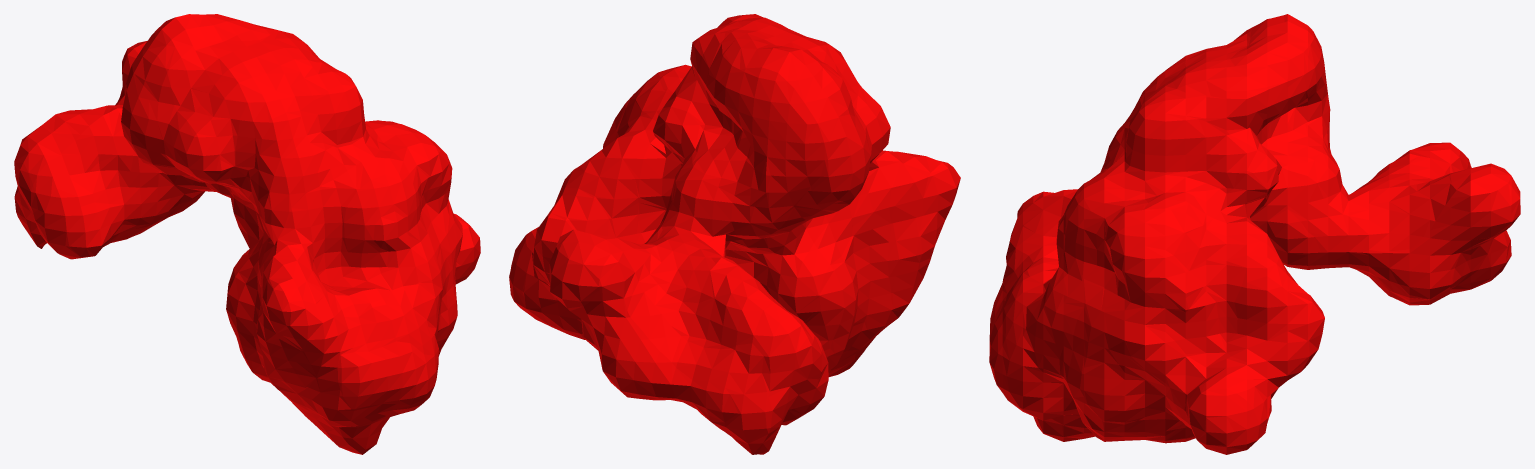
Rendered from selA_coarse.dae.
3 renders of one model, left to right at view 1: azimuth 30°, elevation 25°; view 2: azimuth 150°, elevation 25°; view 3: azimuth 270°, elevation 25°, orthographic. The views are drawn at different scales.
Parts seen in each view (by area): view 1: selA; view 2: selA; view 3: selA.
Part boxes in pixels (left/top/right/bottom): selA: left=14, top=14, right=480, bottom=454; selA: left=509, top=14, right=960, bottom=454; selA: left=989, top=14, right=1520, bottom=454.
Bounding box in the file's own units: 71.89 × 71.87 × 88.87.
